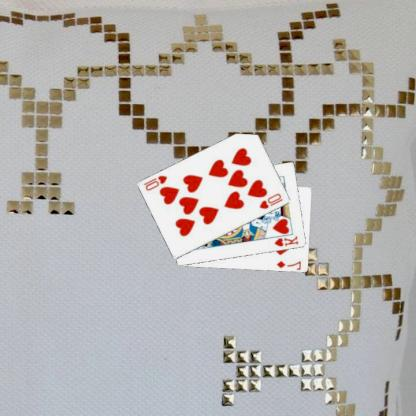10H: (258, 191, 286, 210), (144, 173, 170, 192)
7D: (275, 258, 304, 270)
KH: (273, 233, 301, 248)
